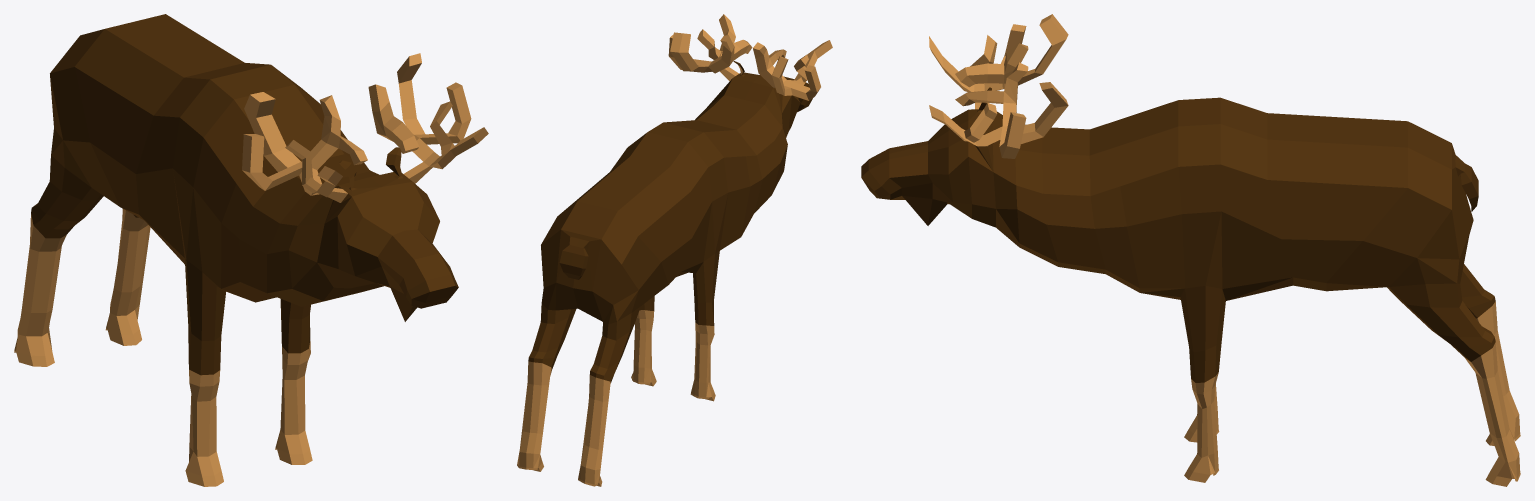
The model's file is low-poly_elk.glb.
3 views of the same model, side by side, from view 1: azimuth 30°, elevation 25°; view 2: azimuth 150°, elevation 25°; view 3: azimuth 270°, elevation 25° (orthographic). The views are drawn at different scales.
Visible parts, largest first — view 1: Plane; view 2: Plane; view 3: Plane.
Boxes of the visible parts, bbox=[...] form: Plane: bbox=[14, 14, 488, 486]; Plane: bbox=[517, 14, 832, 486]; Plane: bbox=[861, 14, 1520, 486].
Bounding box in the file's own units: 2.31 × 4.57 × 6.65.
